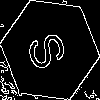S: (25, 25, 77, 74)
